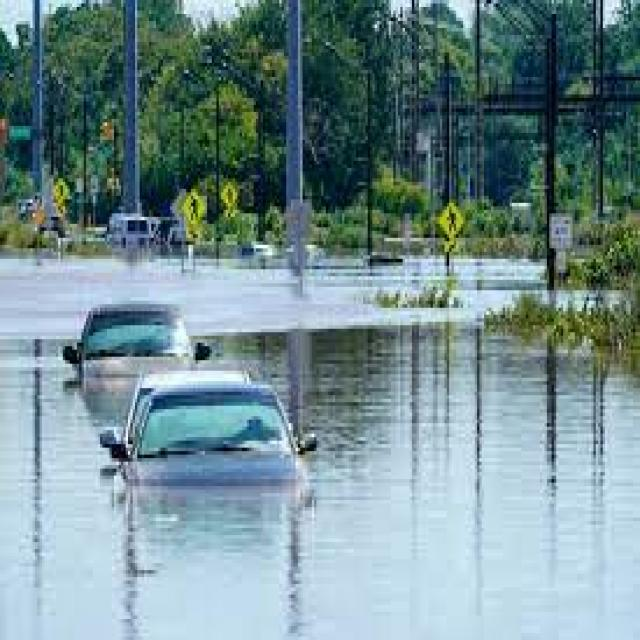Hurricane: (21, 248, 633, 640)
